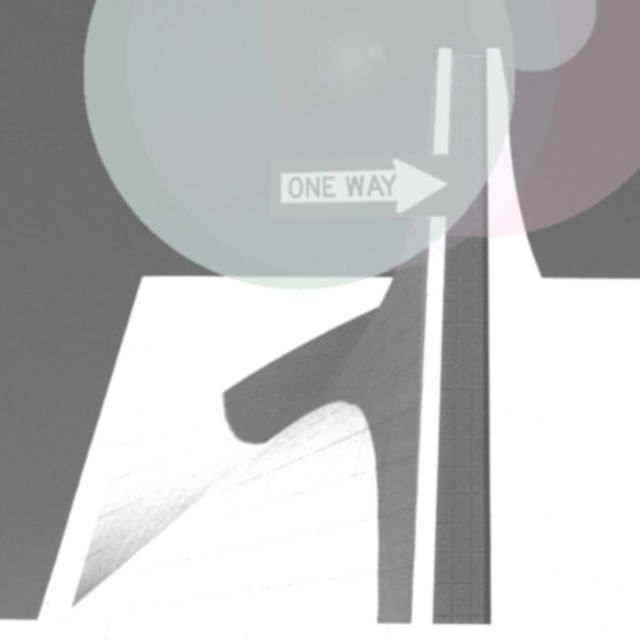ONE_WAY_ right: (269, 153, 466, 218)
